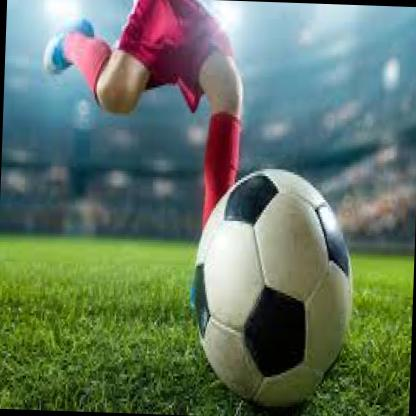ball: (190, 164, 356, 414)
